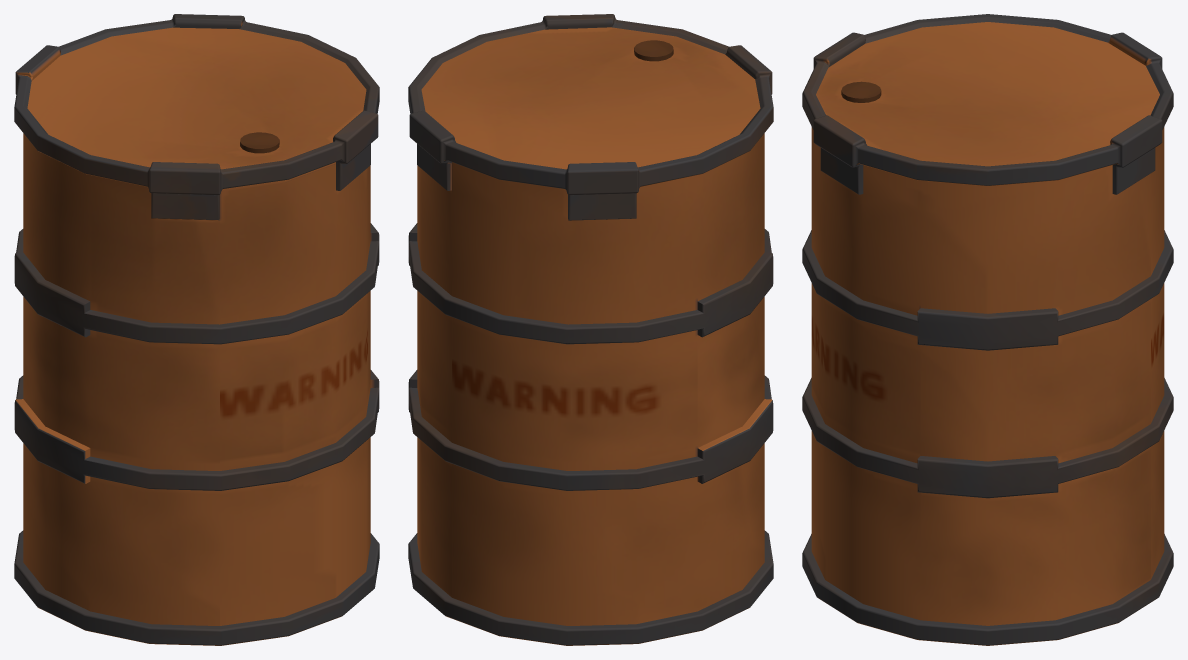
File: SSCFuelDrum1.fbx
The picture shows the model from 3 angles, left to right: view 1: azimuth 30°, elevation 25°; view 2: azimuth 150°, elevation 25°; view 3: azimuth 270°, elevation 25°; orthographic projection.
Parts seen in each view (by area): view 1: SSCFuelDrum1; view 2: SSCFuelDrum1; view 3: SSCFuelDrum1.
Part boxes in pixels (x1=…): SSCFuelDrum1: x1=14, y1=14, x2=379, y2=645; SSCFuelDrum1: x1=408, y1=14, x2=773, y2=645; SSCFuelDrum1: x1=802, y1=14, x2=1173, y2=645.
Size of the model in its own units: 60 by 85.93 by 60.
